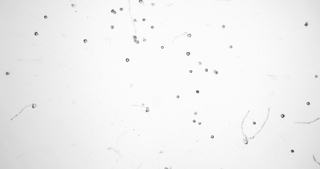germinated: (181, 30, 192, 37), (26, 102, 37, 108), (131, 28, 137, 39), (244, 136, 252, 144), (241, 132, 247, 142), (141, 105, 149, 112)
nongerminated: (193, 87, 201, 94), (148, 23, 156, 30), (149, 0, 156, 8), (197, 58, 203, 67), (302, 19, 309, 26), (279, 111, 286, 118), (184, 49, 191, 56), (108, 23, 115, 30), (220, 22, 226, 30), (312, 72, 318, 79), (305, 99, 311, 106), (289, 147, 295, 154), (251, 119, 257, 126), (227, 43, 234, 49), (174, 93, 181, 99), (159, 43, 165, 50), (140, 16, 147, 22), (124, 56, 130, 63), (82, 37, 88, 44), (41, 14, 48, 20), (142, 35, 147, 43), (209, 133, 215, 139), (213, 69, 219, 75), (134, 39, 140, 45), (118, 6, 124, 12), (33, 30, 39, 36), (191, 117, 196, 124), (188, 68, 195, 73), (4, 70, 9, 77), (197, 120, 202, 126), (192, 110, 198, 115), (204, 66, 209, 72), (109, 8, 114, 14), (112, 10, 117, 16), (132, 17, 137, 22)
